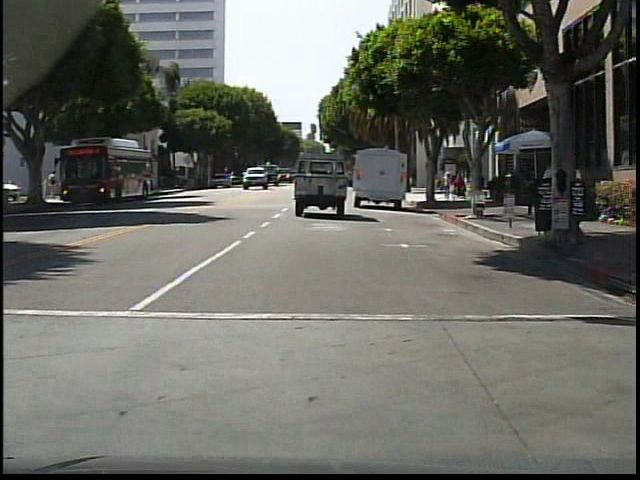person: (442, 170, 453, 201), (51, 172, 63, 200), (432, 167, 441, 202)
